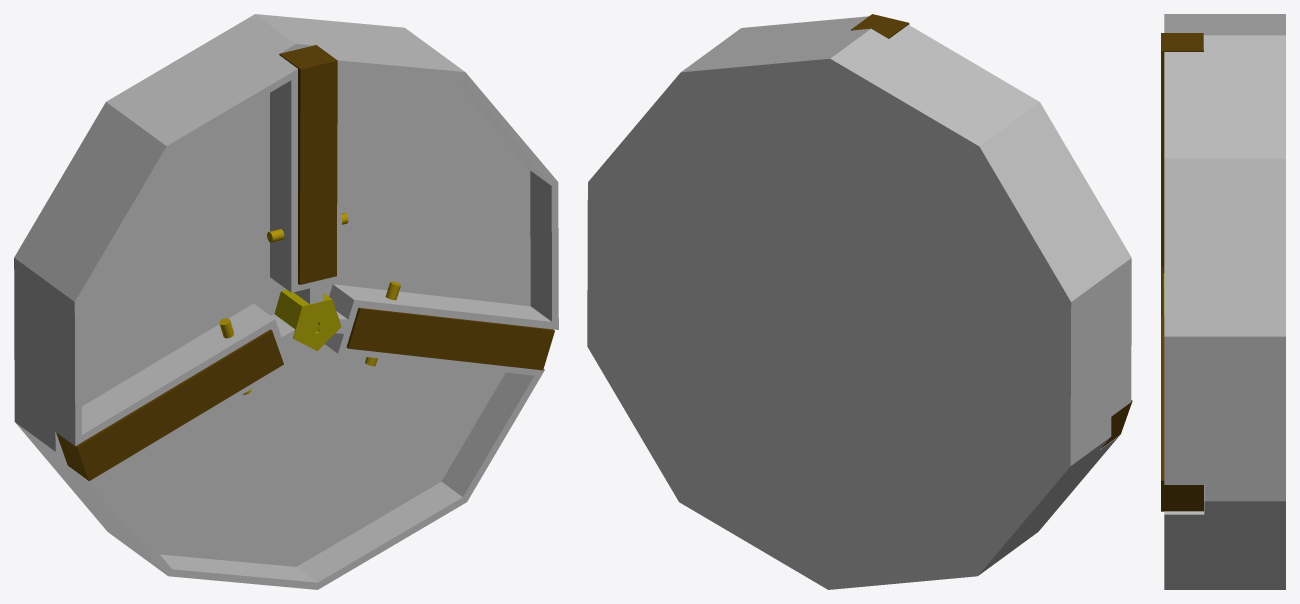
The model's file is Puerta LOL.fbx.
3 renders of one model, left to right at view 1: azimuth 30°, elevation 25°; view 2: azimuth 150°, elevation 25°; view 3: azimuth 270°, elevation 25°, orthographic.
Visible parts, largest first — view 1: pCylinder17, polySurface8, polySurface9, polySurface10, pasted__pCylinder11; view 2: pCylinder17, polySurface8; view 3: pCylinder17, polySurface10, polySurface8.
Part boxes in pixels (left/top/right/bottom): pCylinder17: left=14, top=14, right=558, bottom=589; polySurface8: left=279, top=45, right=337, bottom=284; polySurface9: left=56, top=329, right=283, bottom=481; polySurface10: left=346, top=307, right=554, bottom=370; pasted__pCylinder11: left=274, top=289, right=341, bottom=350; pCylinder17: left=587, top=16, right=1131, bottom=589; polySurface8: left=851, top=14, right=909, bottom=38; pCylinder17: left=1164, top=14, right=1285, bottom=589; polySurface10: left=1161, top=316, right=1203, bottom=511; polySurface8: left=1161, top=33, right=1203, bottom=266.
Size of the model in its own units: 65.27 by 68.54 by 14.56.
